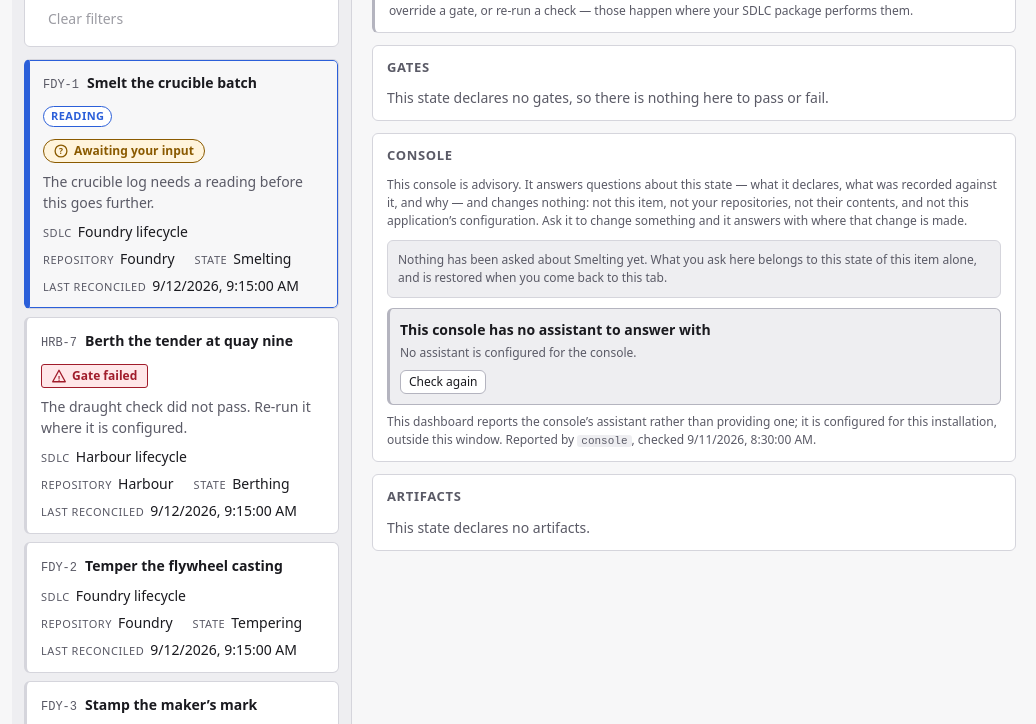
Test case: the two-pane workbench › changes only the detail when a second item is selected, leaving the list in place
This screenshot has width=1036, height=724.
(page scrolled)
Check: the text "FDY-1" is shown, box [43,76,79,94]
What coordinates should you click on to do the following:
click the link "HRB-7 Berth the tender at quay nine"
I would click on:
 (167, 340)
Its box is [41,330,293,352].
(page scrolled)
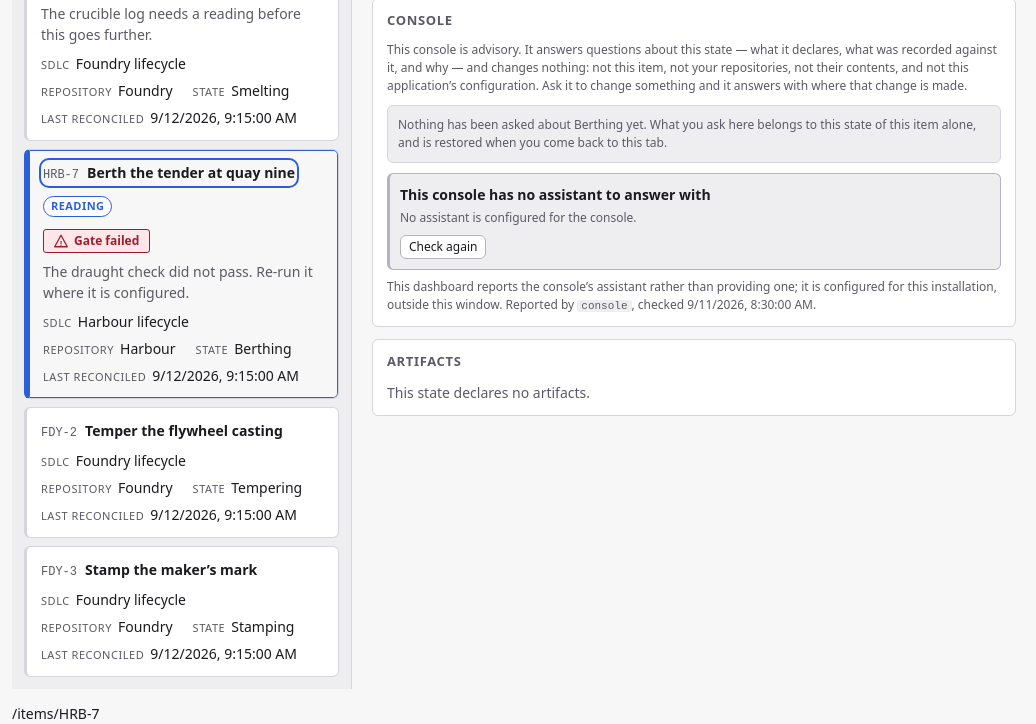
Check: the text with test id "url" reads "/items/HRB-7", box [12,704,100,722]
